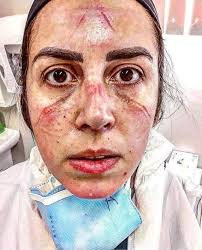mask_weared_incorrect: (32, 36, 158, 208)
